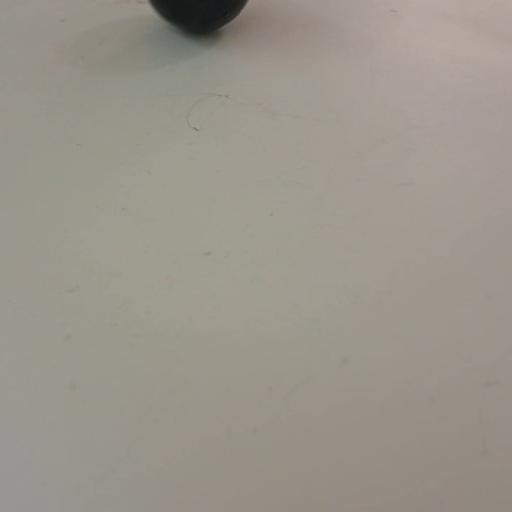dead: (146, 1, 251, 35)
